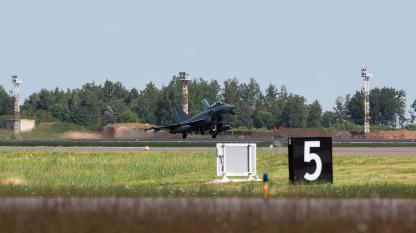E2: (144, 99, 236, 138)
